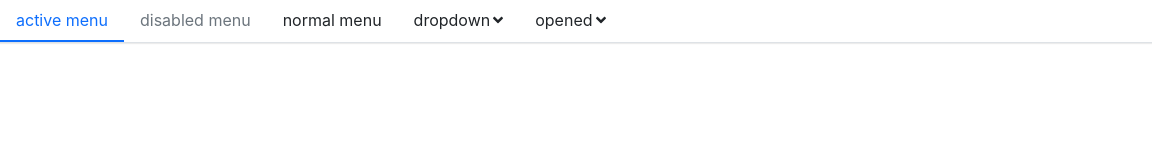
Test: test Menu and MenuItem component in default(horizontal) mode › should show dropdown items when hover on subMenu
The image size is (1152, 160).
expect the text "hide submenu 1" is not shown: met
Hover over the text "dropdown" at (458, 20), box [414,8,503,32]
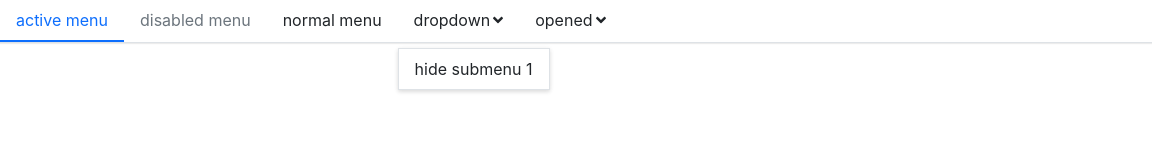
expect the list item "hide submenu 1" is shown: met
Click the list item "hide submenu 1". click: (474, 69)
box: [415,59,532,79]
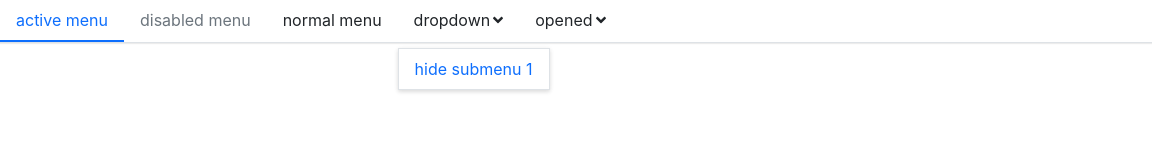
Move the pointer off the text "dropdown", box [414,8,503,32]
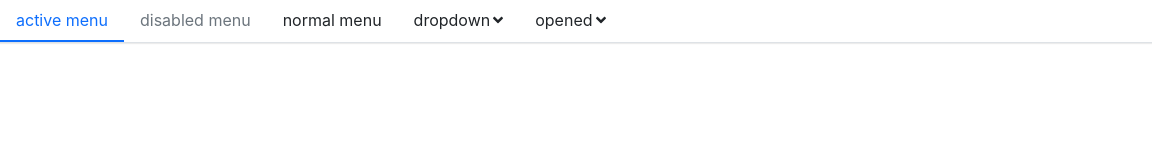
expect the list item "hide submenu 1" is gone: met
